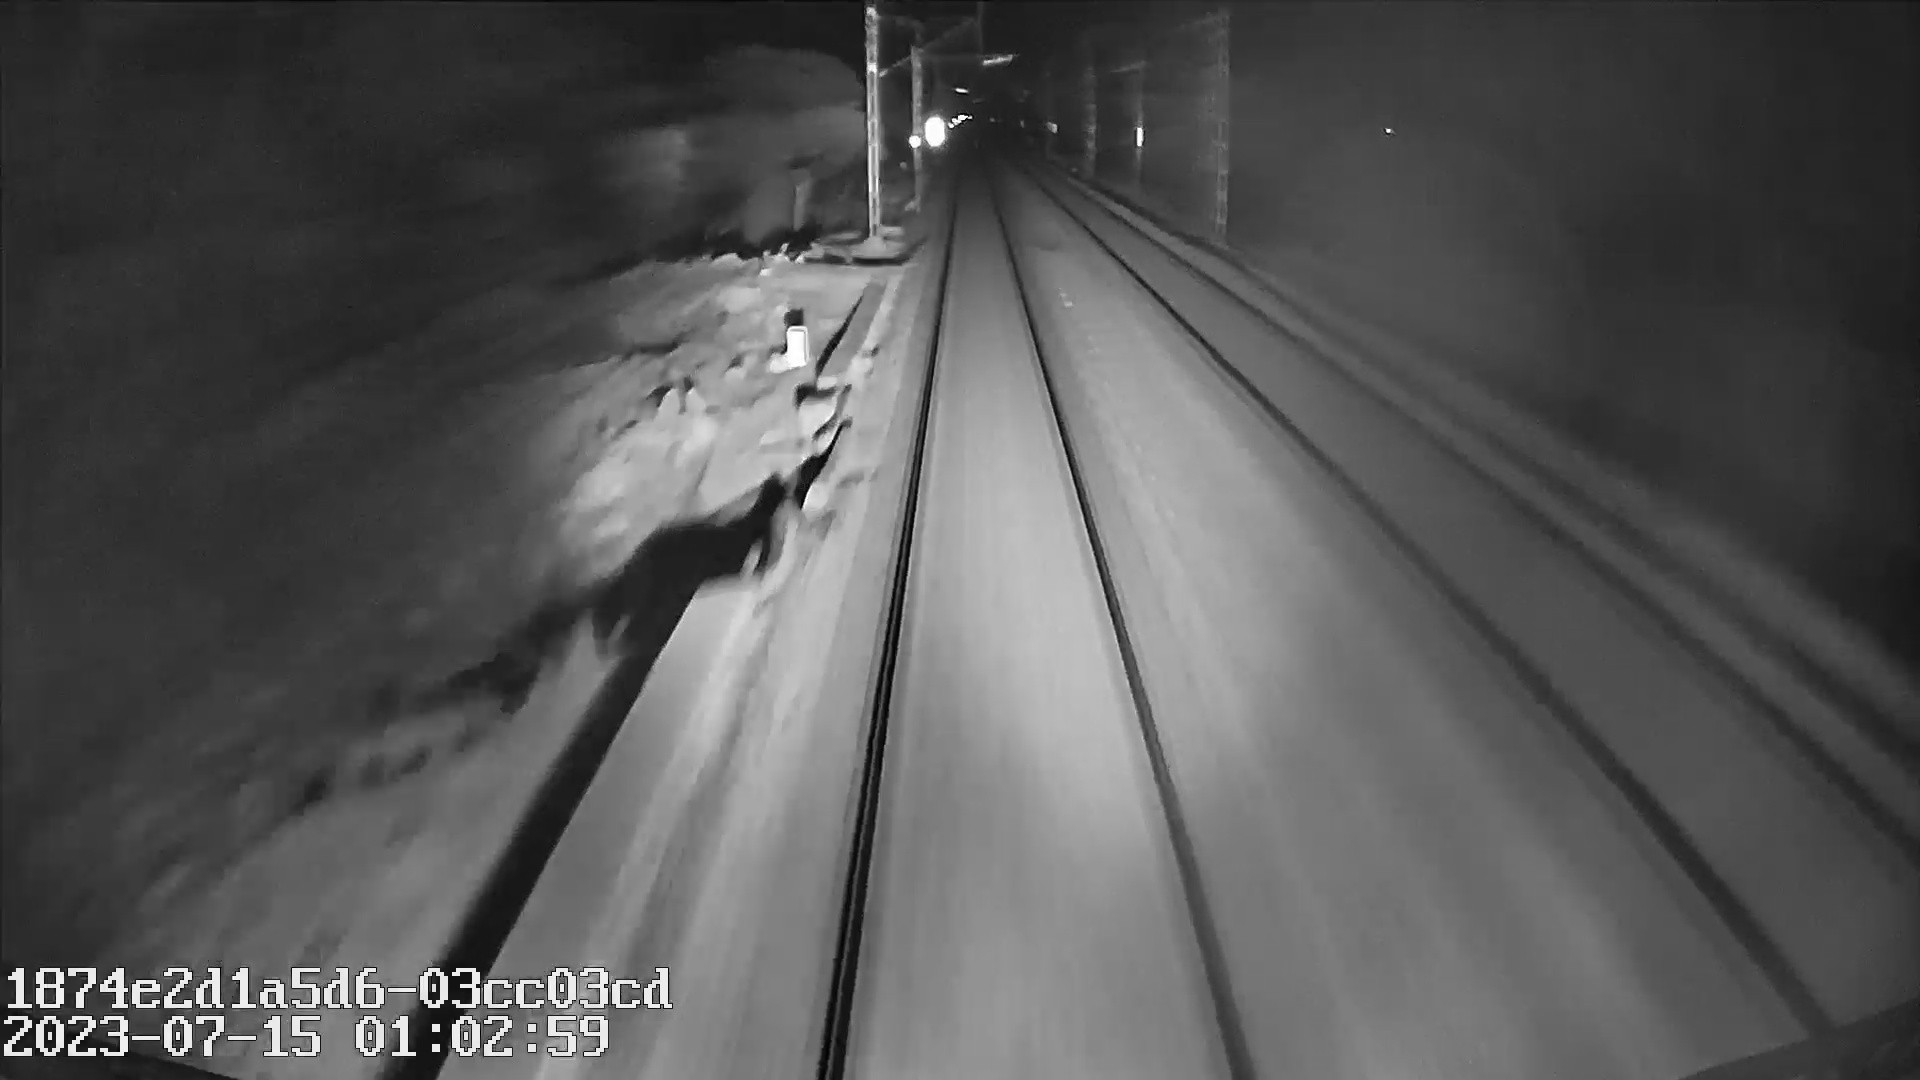track1: (833, 180, 1237, 1044)
track2: (1073, 210, 1901, 979)
